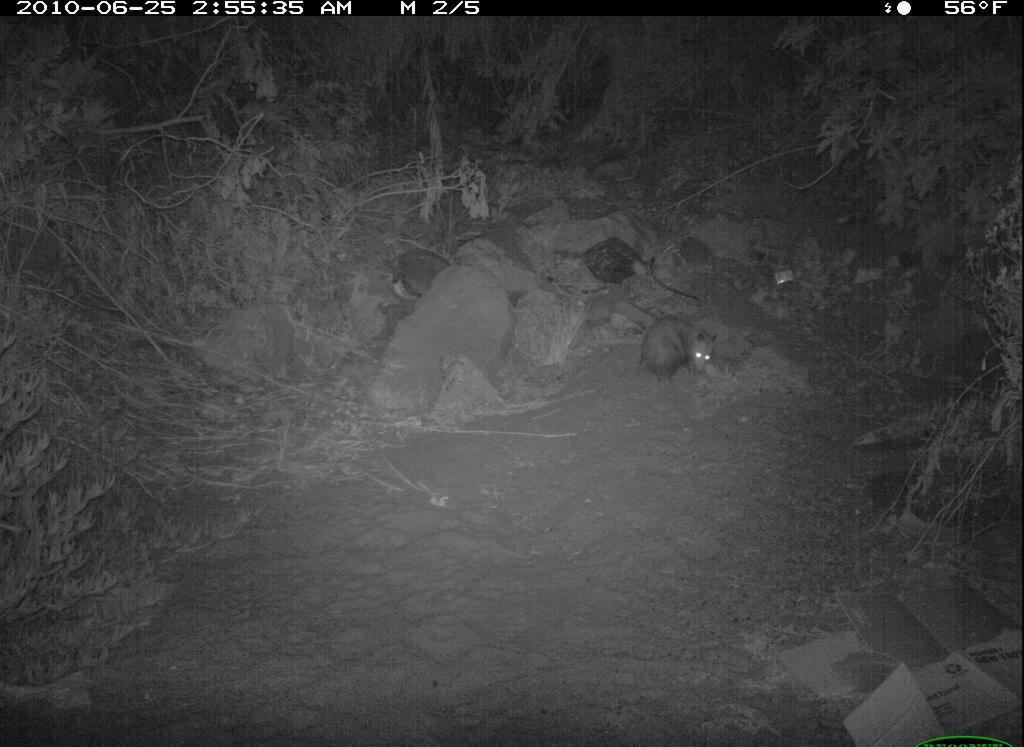opossum: (624, 310, 721, 383)
